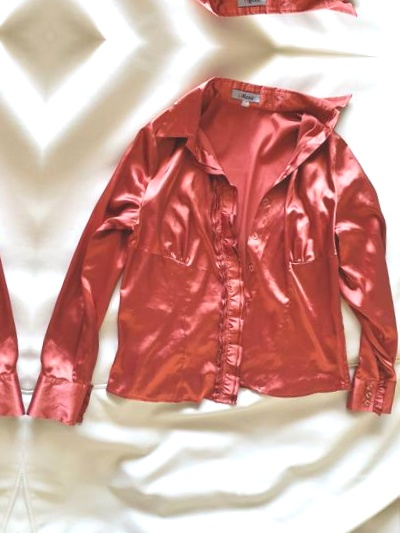Blazer: (36, 53, 400, 445), (0, 29, 37, 421), (62, 0, 400, 42), (0, 0, 62, 18)
